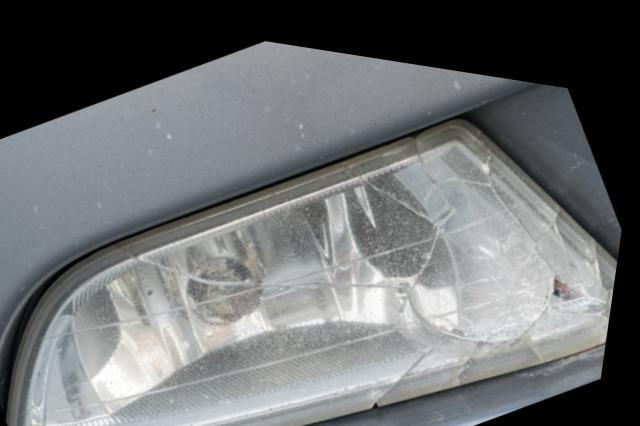lamp broken: (18, 99, 622, 426)
